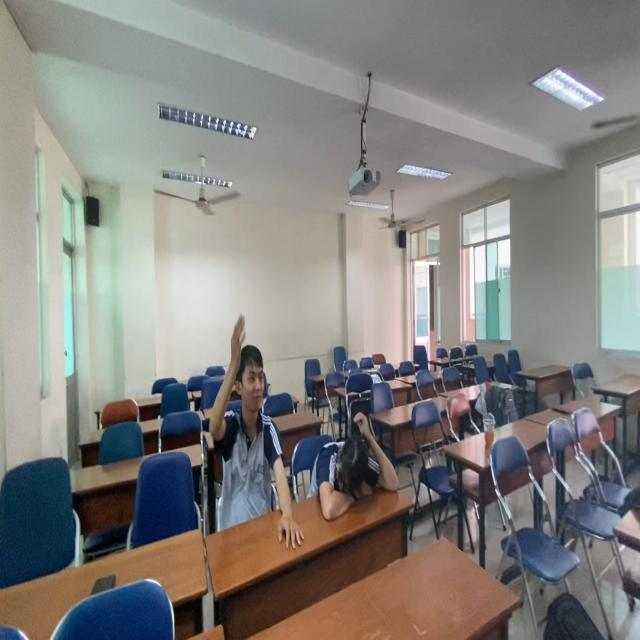raise_hand: (211, 314, 300, 532)
sleep: (308, 418, 403, 521)
